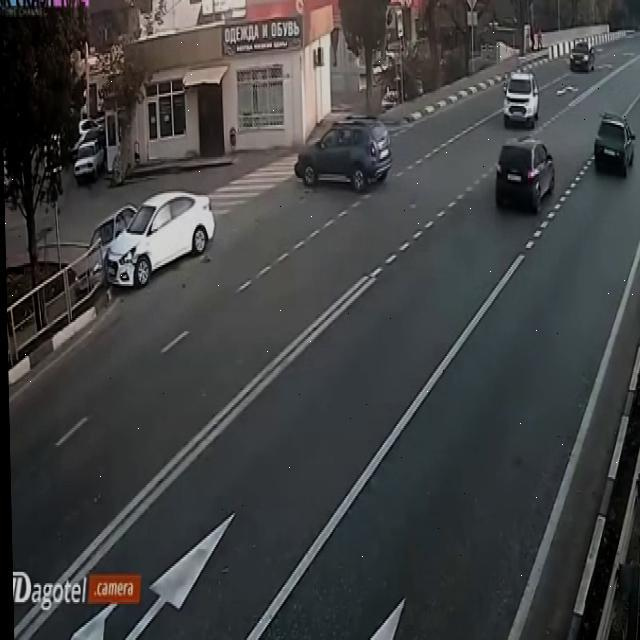normal: (289, 101, 399, 202), (495, 129, 562, 217), (586, 109, 639, 185), (497, 62, 539, 125)
single accident: (60, 197, 227, 313)
